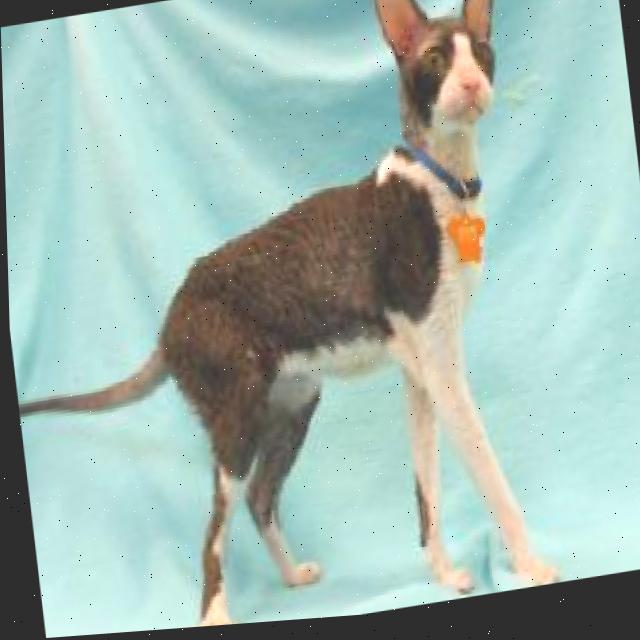Cornish Rex: (0, 0, 568, 640)
